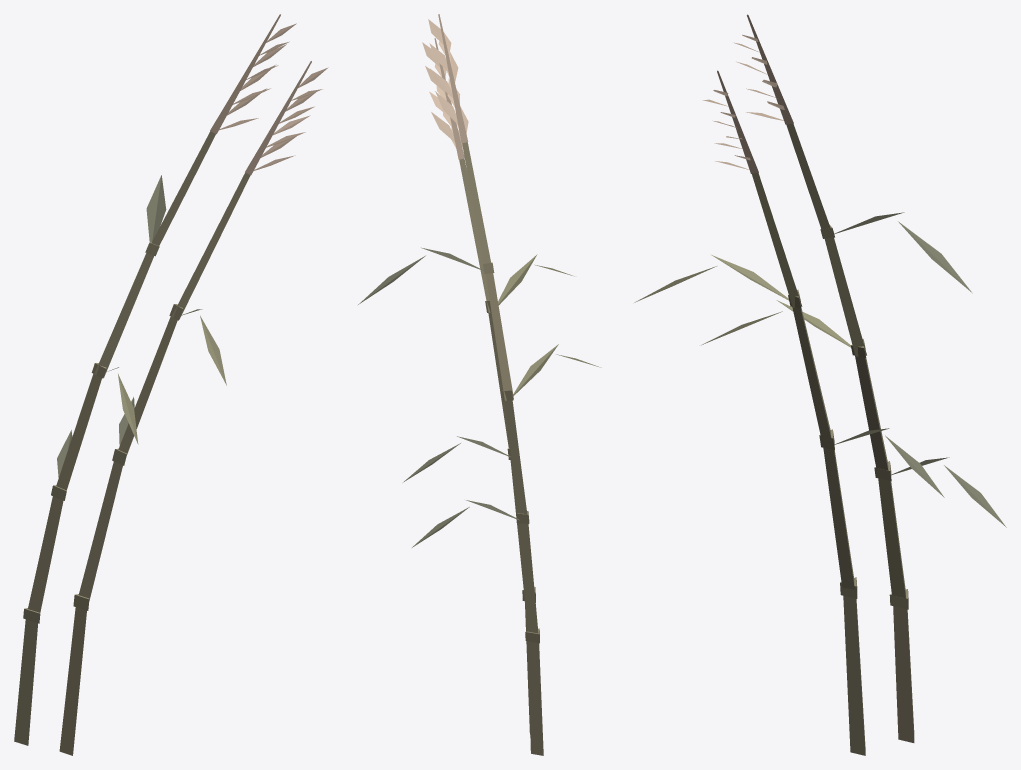
File: shui.luwei@flowering__winter.glb
3 views of the same model, side by side, from view 1: azimuth 30°, elevation 25°; view 2: azimuth 150°, elevation 25°; view 3: azimuth 270°, elevation 25° (orthographic). The views are drawn at different scales.
Parts seen in each view (by area): view 1: shui.luwei@flowering__winter; view 2: shui.luwei@flowering__winter; view 3: shui.luwei@flowering__winter.
Part boxes in pixels (x1,y1,x2,y2): shui.luwei@flowering__winter: (14, 14, 328, 755); shui.luwei@flowering__winter: (358, 14, 601, 755); shui.luwei@flowering__winter: (634, 14, 1006, 755).
Bounding box in the file's own units: 1.03 × 3.2 × 1.32.
